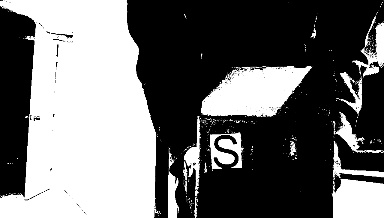S: (210, 133, 242, 167)
